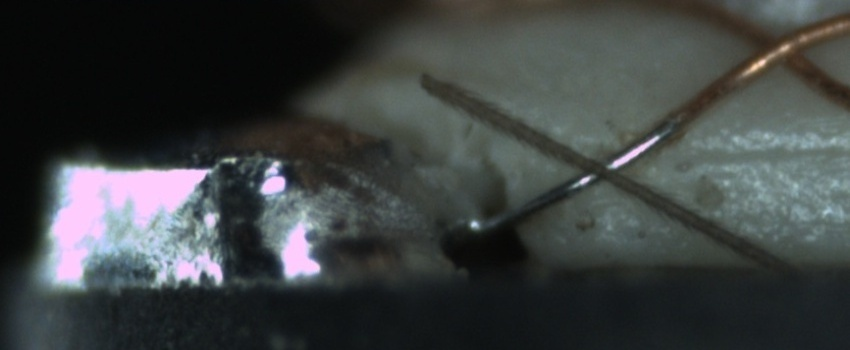CL: (563, 135, 645, 197)
DL: (670, 118, 850, 187)
TS: (466, 119, 690, 238)
TTCW: (463, 101, 729, 240)
